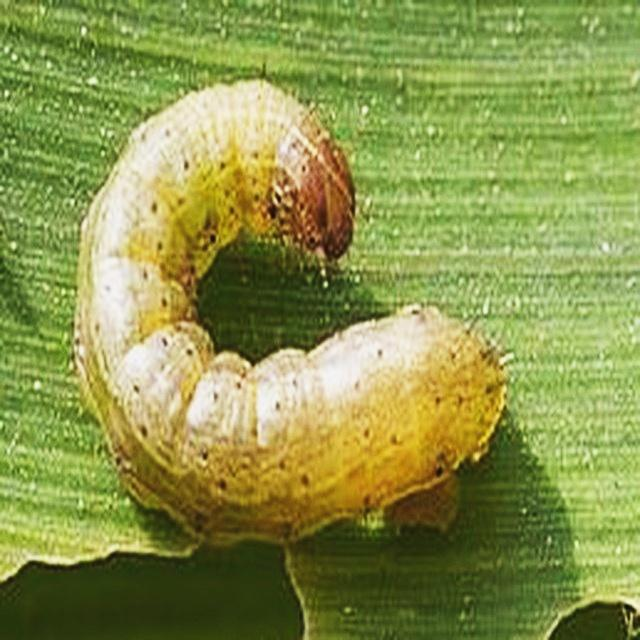gusano_cogollero: (74, 77, 512, 545)
